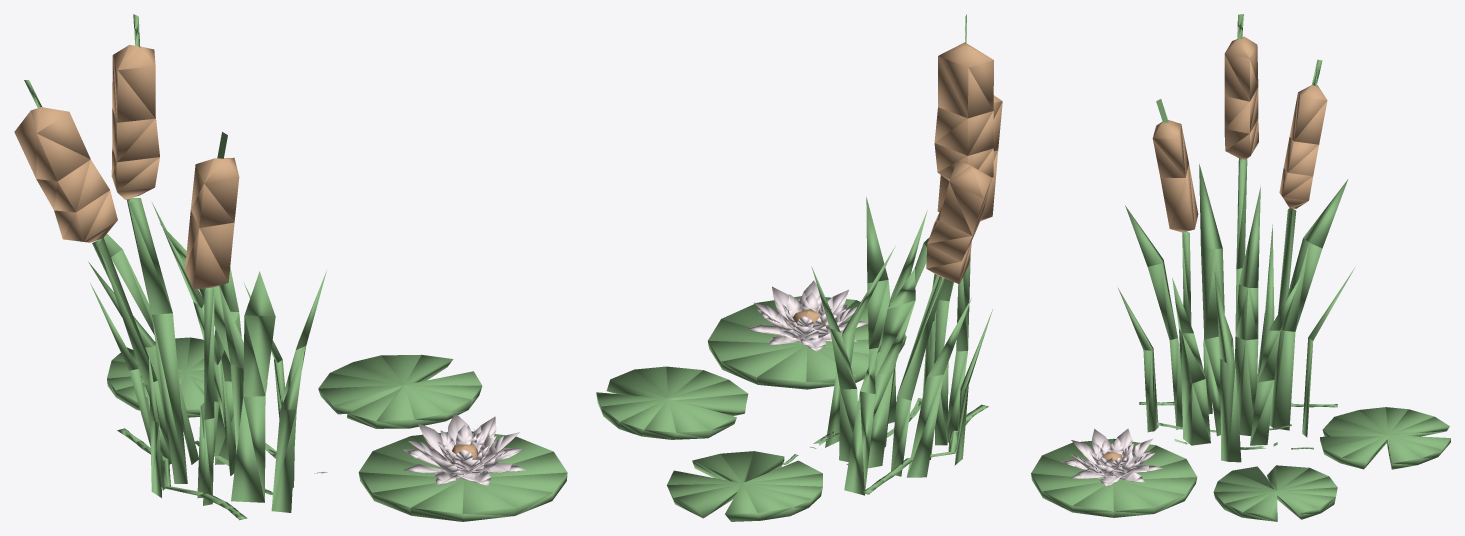
Rendered from reeds.glb.
3 views of the same model, side by side, from view 1: azimuth 30°, elevation 25°; view 2: azimuth 150°, elevation 25°; view 3: azimuth 270°, elevation 25° (orthographic). The views are drawn at different scales.
Parts seen in each view (by area): view 1: tripo_node_2230d448-2198-492f-8dde-a4d7278182e5; view 2: tripo_node_2230d448-2198-492f-8dde-a4d7278182e5; view 3: tripo_node_2230d448-2198-492f-8dde-a4d7278182e5.
Boxes of the visible parts, x1,y1,x2,y2 form: tripo_node_2230d448-2198-492f-8dde-a4d7278182e5: (14,14,567,521); tripo_node_2230d448-2198-492f-8dde-a4d7278182e5: (596,14,1002,521); tripo_node_2230d448-2198-492f-8dde-a4d7278182e5: (1031,14,1450,521).
Size of the model in its own units: 0.9043 by 0.998 by 0.9707.
